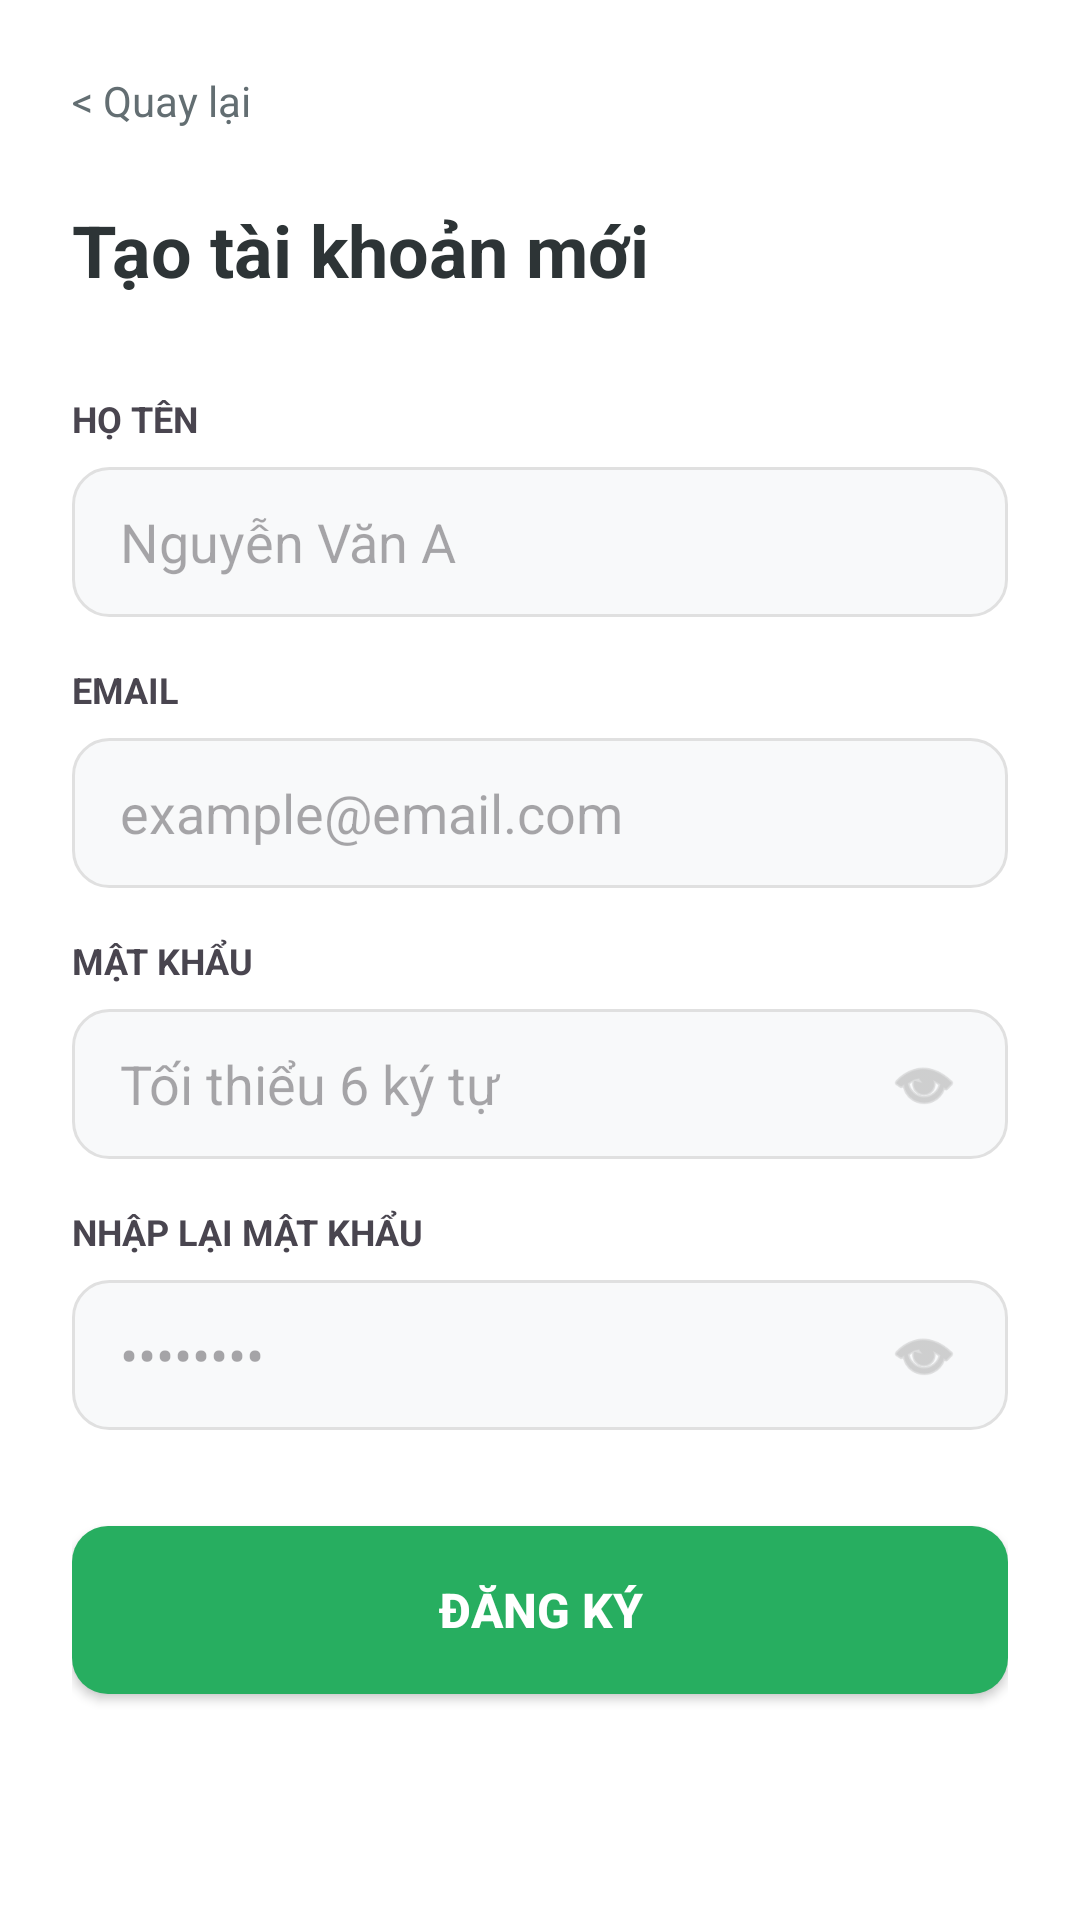

Named icons in this screenshot (1080 × 1920) and their bounding boxes, bbox(x1, y1, x2, y2):
view: bbox(896, 1068, 952, 1104), bbox(896, 1339, 952, 1375)
